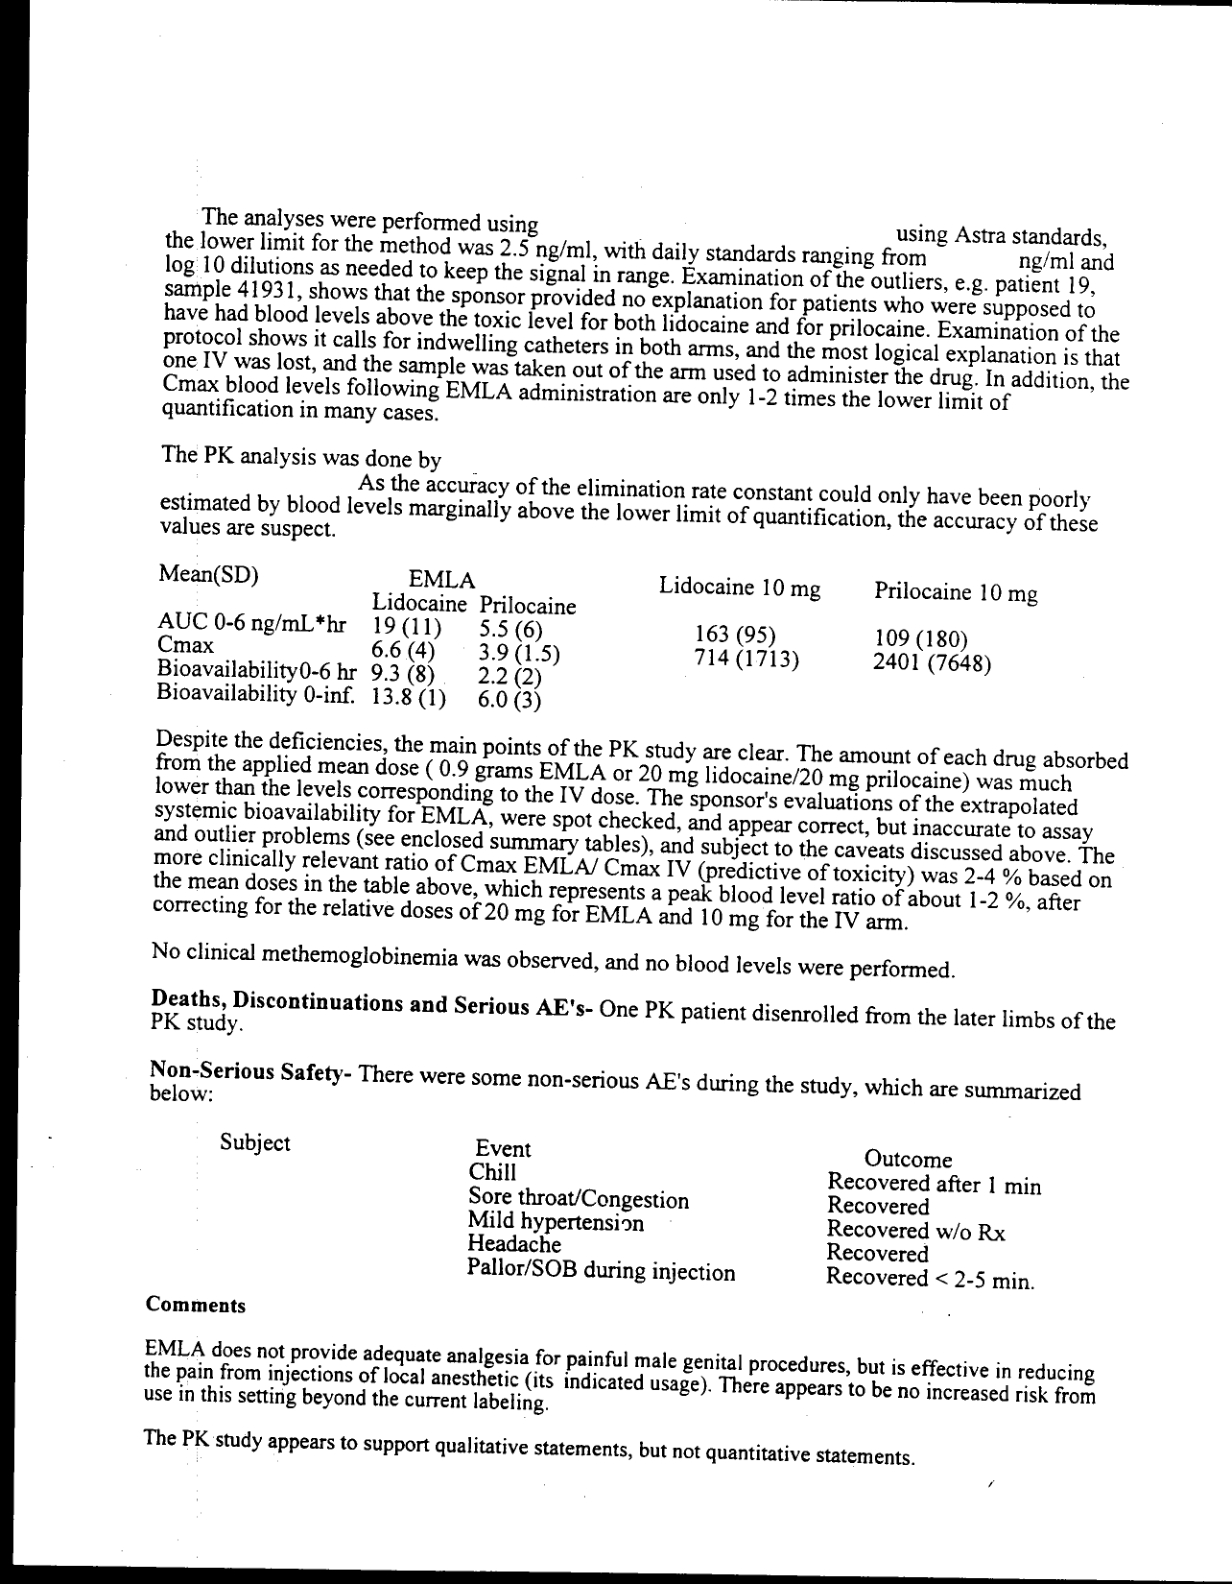nolines: (210, 1126, 1049, 1296), (150, 557, 1043, 708)
